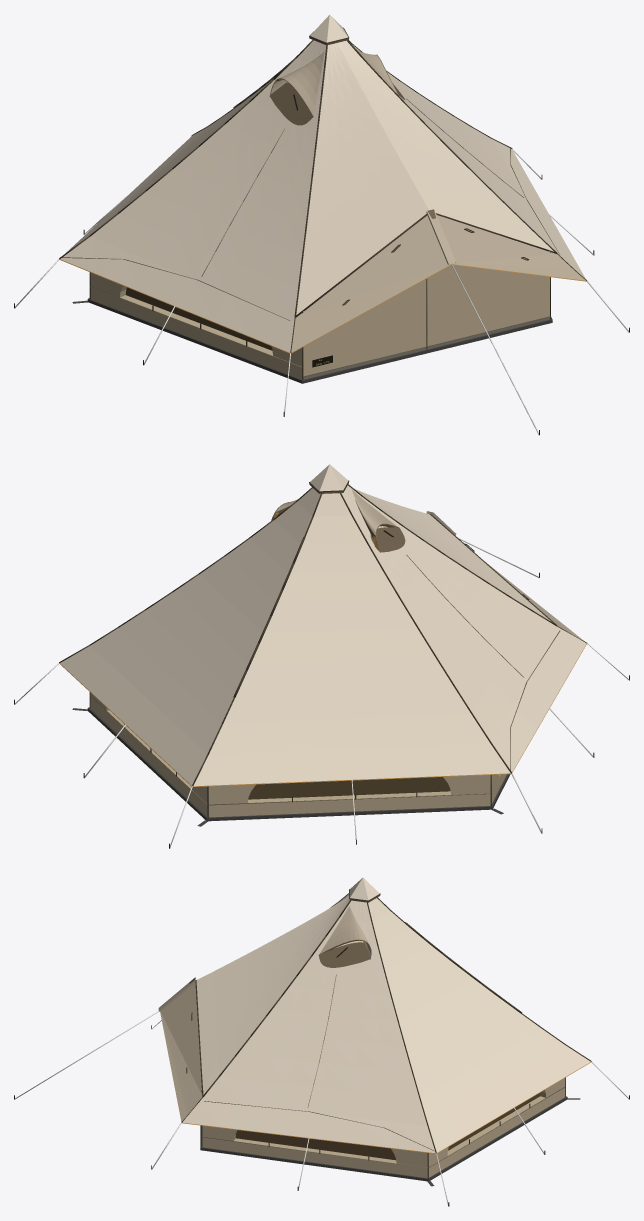
File: ogawa-glocke-12.glb
The picture shows the model from 3 angles, top to bottom: view 1: azimuth 30°, elevation 25°; view 2: azimuth 150°, elevation 25°; view 3: azimuth 270°, elevation 25°; orthographic projection. The views are drawn at different scales.
Visible parts, largest first — view 1: ogawa-glocke-12-fly, ogawa-glocke-12-door, ogawa-glocke-12-band, ogawa-glocke-12-wall, ogawa-glocke-12-seam, ogawa-glocke-12-sheet, ogawa-glocke-12-seamlight, ogawa-glocke-12-vent, ogawa-glocke-12-rope, ogawa-glocke-12-mesh, ogawa-glocke-12-hem, ogawa-glocke-12-under; view 2: ogawa-glocke-12-fly, ogawa-glocke-12-wall, ogawa-glocke-12-mesh, ogawa-glocke-12-seam, ogawa-glocke-12-sheet, ogawa-glocke-12-band, ogawa-glocke-12-seamlight, ogawa-glocke-12-rope, ogawa-glocke-12-under, ogawa-glocke-12-vent; view 3: ogawa-glocke-12-fly, ogawa-glocke-12-wall, ogawa-glocke-12-band, ogawa-glocke-12-mesh, ogawa-glocke-12-seam, ogawa-glocke-12-sheet, ogawa-glocke-12-vent, ogawa-glocke-12-seamlight, ogawa-glocke-12-rope, ogawa-glocke-12-under.
Boxes of the visible parts, x1,y1,x2,y2 form: ogawa-glocke-12-fly: [60, 14, 585, 352]; ogawa-glocke-12-door: [303, 251, 549, 376]; ogawa-glocke-12-band: [271, 49, 586, 352]; ogawa-glocke-12-wall: [90, 273, 302, 379]; ogawa-glocke-12-seam: [59, 27, 586, 379]; ogawa-glocke-12-sheet: [72, 298, 552, 383]; ogawa-glocke-12-seamlight: [61, 54, 559, 367]; ogawa-glocke-12-vent: [270, 37, 435, 218]; ogawa-glocke-12-rope: [14, 136, 629, 434]; ogawa-glocke-12-mesh: [125, 287, 272, 350]; ogawa-glocke-12-hem: [303, 317, 550, 379]; ogawa-glocke-12-under: [60, 79, 586, 353]; ogawa-glocke-12-fly: [60, 464, 586, 786]; ogawa-glocke-12-wall: [90, 693, 506, 817]; ogawa-glocke-12-mesh: [248, 777, 450, 799]; ogawa-glocke-12-seam: [59, 480, 586, 817]; ogawa-glocke-12-sheet: [72, 707, 510, 826]; ogawa-glocke-12-band: [274, 489, 583, 640]; ogawa-glocke-12-seamlight: [90, 502, 560, 805]; ogawa-glocke-12-rope: [14, 537, 629, 848]; ogawa-glocke-12-under: [60, 512, 586, 786]; ogawa-glocke-12-vent: [274, 482, 433, 552]; ogawa-glocke-12-fly: [182, 877, 590, 1153]; ogawa-glocke-12-wall: [202, 1078, 565, 1178]; ogawa-glocke-12-band: [158, 906, 370, 1121]; ogawa-glocke-12-mesh: [235, 1093, 540, 1160]; ogawa-glocke-12-seam: [181, 889, 591, 1178]; ogawa-glocke-12-sheet: [200, 1096, 580, 1186]; ogawa-glocke-12-vent: [189, 895, 380, 983]; ogawa-glocke-12-seamlight: [202, 939, 565, 1168]; ogawa-glocke-12-rope: [14, 1011, 629, 1205]; ogawa-glocke-12-under: [160, 940, 590, 1153].
Bounding box in the file's own units: 5.6 × 2.71 × 6.79.
